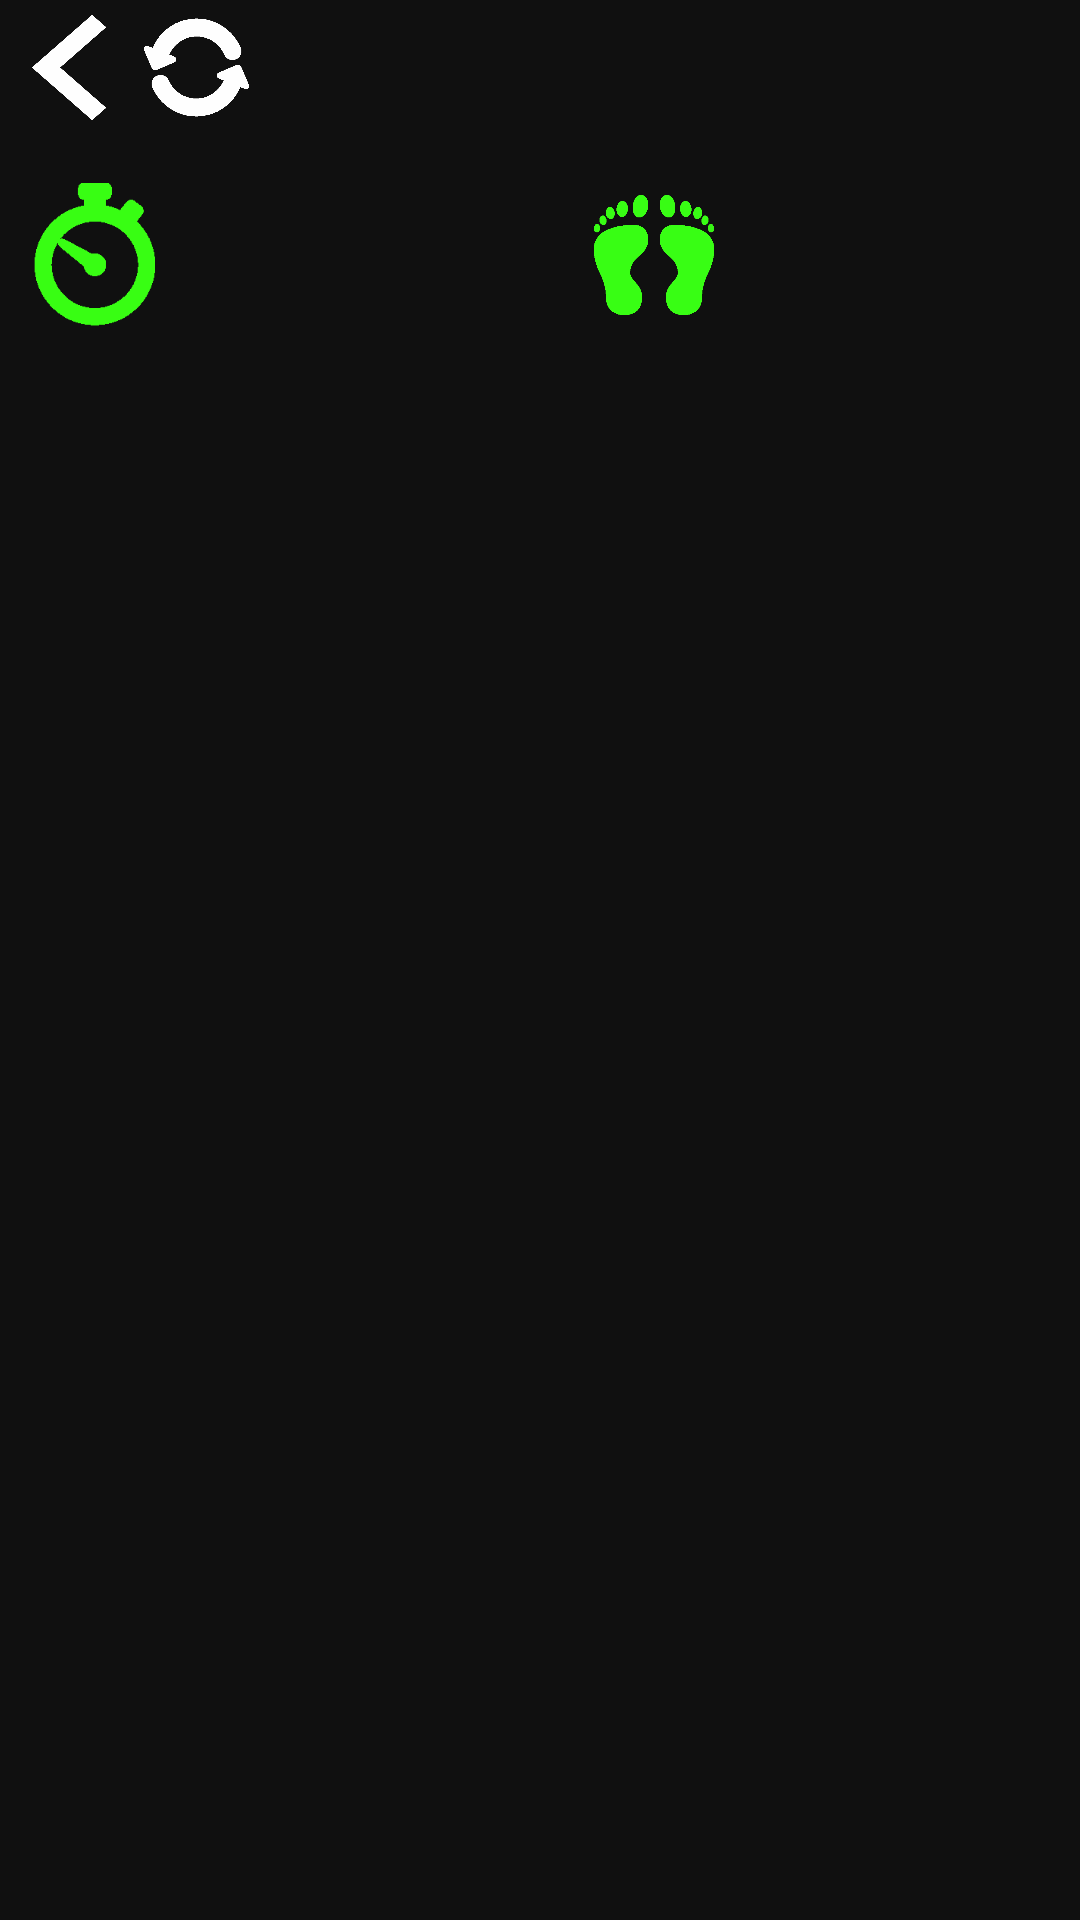

Named icons in this screenshot (1080px x 1920px) and their centers, (x=x, y=y):
clock: (x=94, y=254)
legs: (x=654, y=255)
